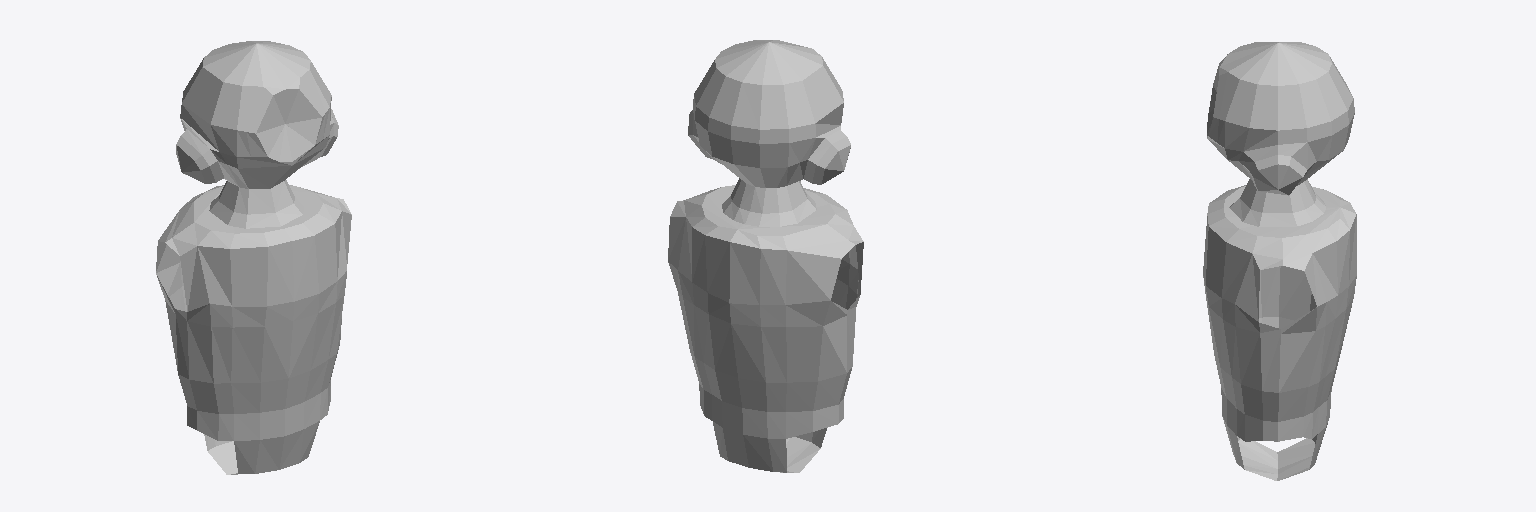
Rendered from low_head.obj.
The picture shows the model from 3 angles: view 1: azimuth 30°, elevation 25°; view 2: azimuth 150°, elevation 25°; view 3: azimuth 270°, elevation 25°; orthographic projection.
Parts seen in each view (by area): view 1: polySurface36; view 2: polySurface36; view 3: polySurface36.
Part boxes in pixels (bbox=[...]): polySurface36: bbox=[156, 41, 351, 474]; polySurface36: bbox=[668, 40, 863, 472]; polySurface36: bbox=[1203, 42, 1356, 480].
Bounding box in the file's own units: 4.33 × 9.89 × 3.24.